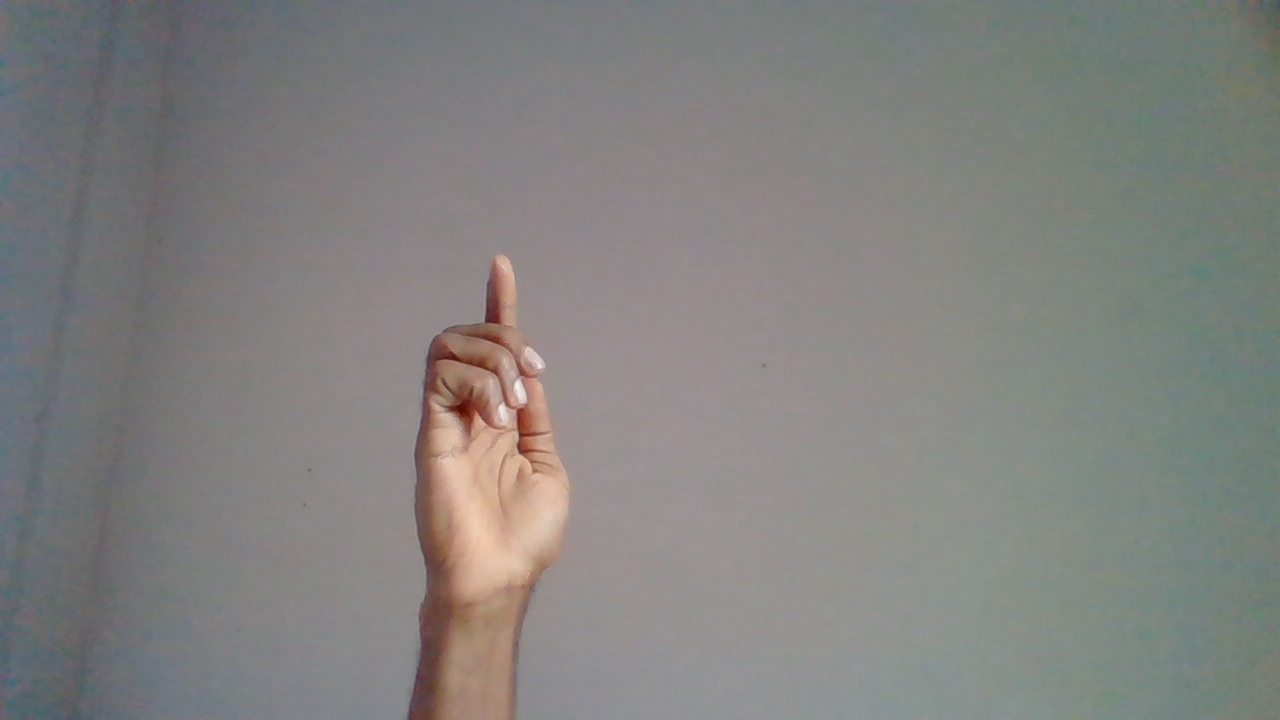qe: (412, 251, 577, 669)
